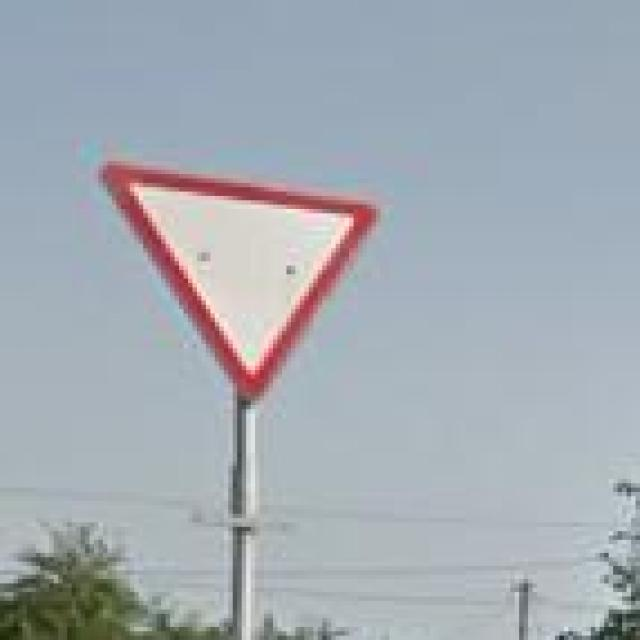Ustap pierwszenstwa: (98, 157, 376, 400)
